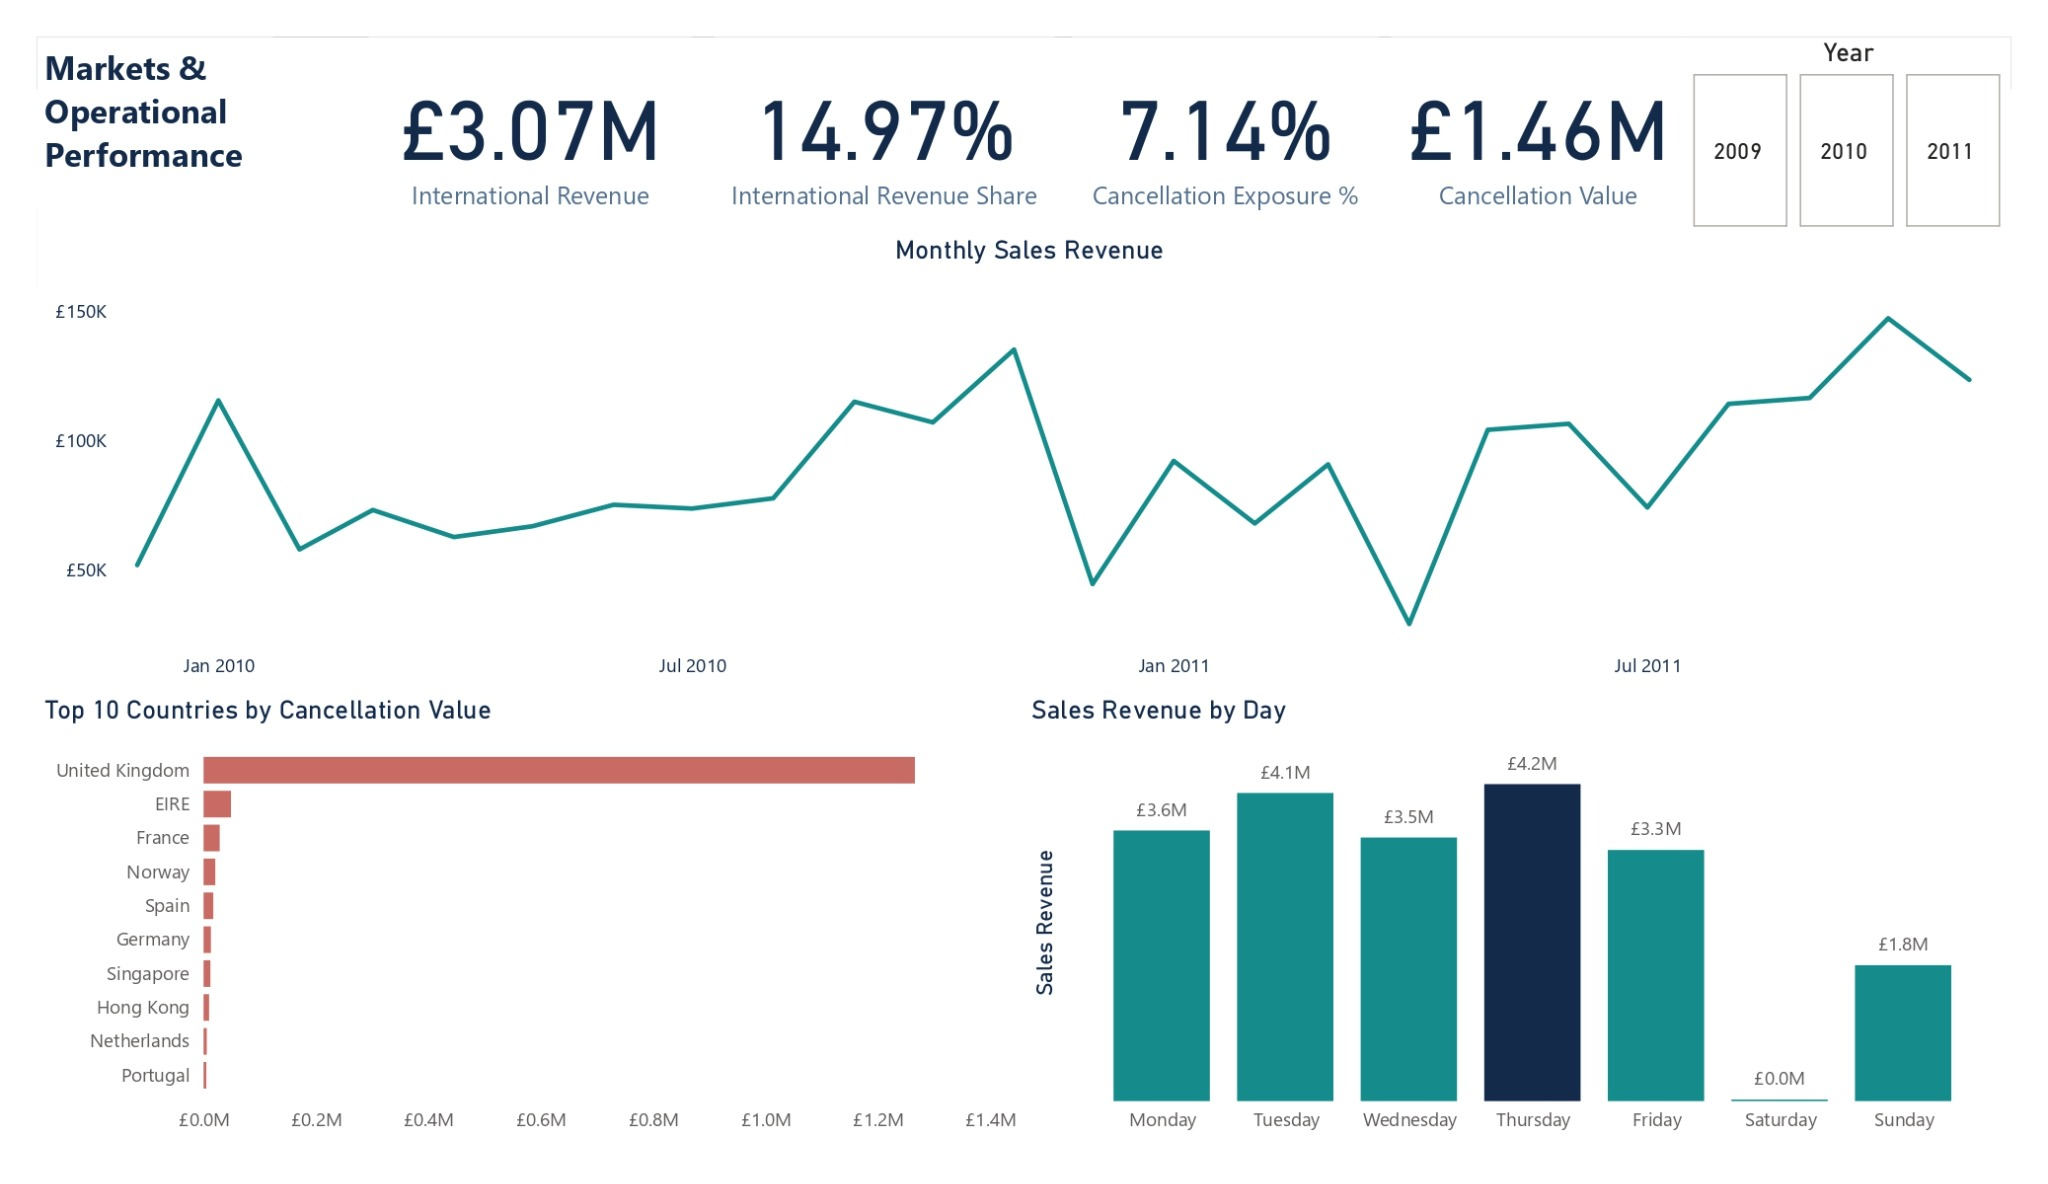

What the dashboard file says about the page in this screenshot:
{"tool":"powerbi","page":{"name":"Markets & Operational Performance","canvas":[1280,720],"ordinal":2},"visuals":[{"type":"lineChart","title":"Monthly Sales Revenue","fields":{"Category":["dim_date.year_month.Variation.Date Hierarchy.Year","dim_date.year_month.Variation.Date Hierarchy.Month"],"Y":["fact_sales.Sales Revenue"]},"box":[6.8,128.4,1273.2,297.6],"z":0},{"type":"advancedSlicerVisual","fields":{"Values":["dim_date.year_month.Variation.Date Hierarchy.Year"]},"box":[1068.9,0,211.1,128.4],"z":1000},{"type":"clusteredBarChart","title":"Top 10 Countries by Cancellation Value","fields":{"Category":["dim_country.country_name"],"Y":["fact_sales.Cancellation Value"]},"box":[0,426,640,293.7],"z":2000},{"type":"columnChart","title":"Sales Revenue by Day","fields":{"Category":["dim_date.day_name"],"Y":["fact_sales.Sales Revenue"]},"box":[640,426,640,293.7],"z":3000},{"type":"card","fields":{"Values":["fact_sales.Cancellation Value"]},"box":[878.3,0,190.6,128.4],"z":3001},{"type":"card","fields":{"Values":["fact_sales.Cancellation Exposure %"]},"box":[671.1,0,198.4,128.4],"z":3002},{"type":"card","fields":{"Values":["fact_sales.International Revenue Share"]},"box":[438.7,0,221.8,128.4],"z":3003},{"type":"card","fields":{"Values":["fact_sales.International Revenue"]},"box":[215,0,210.1,128.4],"z":3004},{"type":"textbox","box":[0,0,152.7,114.8],"z":3005}]}

Visuals, with their boxes in screenshot pixels (x1, y1, x2, y2), scaled from the page's 1280x720 canvas onto the 2048x1184 screenshot:
"Monthly Sales Revenue" lineChart: <bbox>11, 211, 2047, 701</bbox>
advancedSlicerVisual - dim_date.year_month.Variation.Date Hierarchy.Year: <bbox>1710, 0, 2047, 211</bbox>
"Top 10 Countries by Cancellation Value" clusteredBarChart: <bbox>0, 701, 1024, 1183</bbox>
"Sales Revenue by Day" columnChart: <bbox>1024, 701, 2047, 1183</bbox>
card - fact_sales.Cancellation Value: <bbox>1405, 0, 1710, 211</bbox>
card - fact_sales.Cancellation Exposure %: <bbox>1074, 0, 1391, 211</bbox>
card - fact_sales.International Revenue Share: <bbox>702, 0, 1057, 211</bbox>
card - fact_sales.International Revenue: <bbox>344, 0, 680, 211</bbox>
textbox: <bbox>0, 0, 244, 189</bbox>
